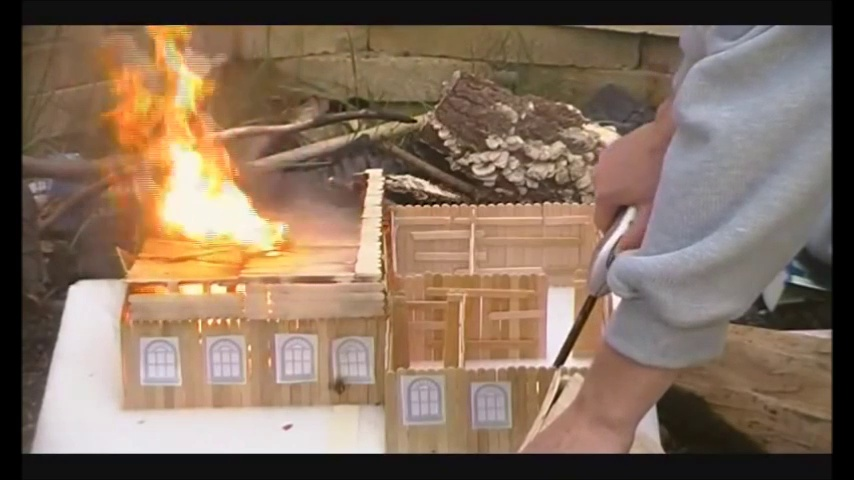fire: (104, 22, 284, 256)
